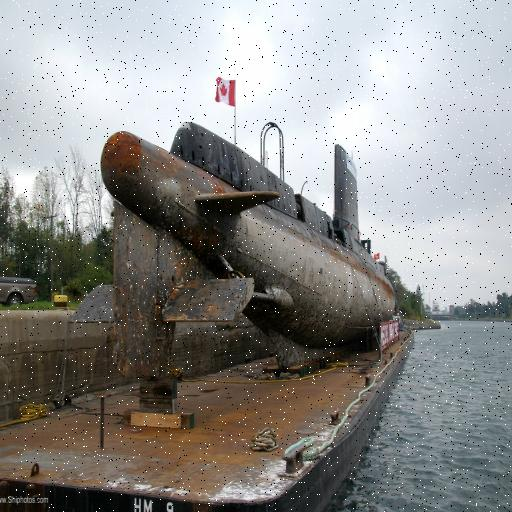submarine: (84, 117, 510, 391)
